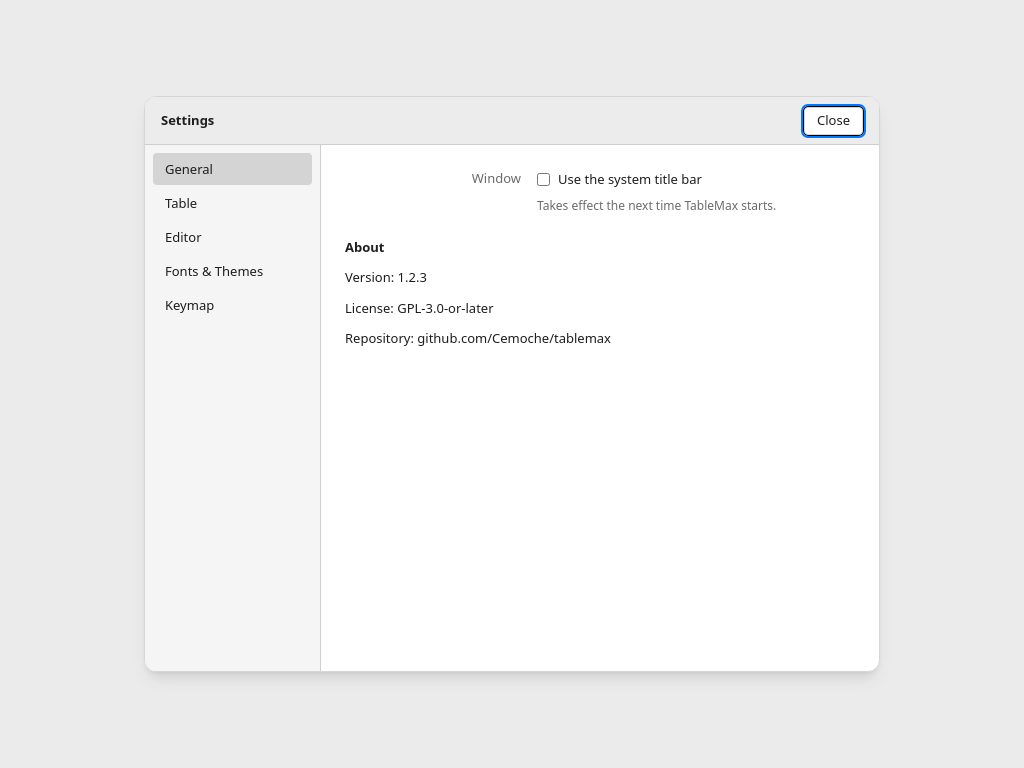
it: settings_sections_and_fields: General, Table, Editor, Fonts & Themes and Keymap, each with its labelled fields
Expected: the checkbox labelled "Use the system title bar" is shown, 537,172 -> 550,186
Expected: the text "License: GPL-3.0-or-later" is shown, 345,298 -> 494,316
Click the tab "Table" at [232, 203], box 153,187 -> 312,219
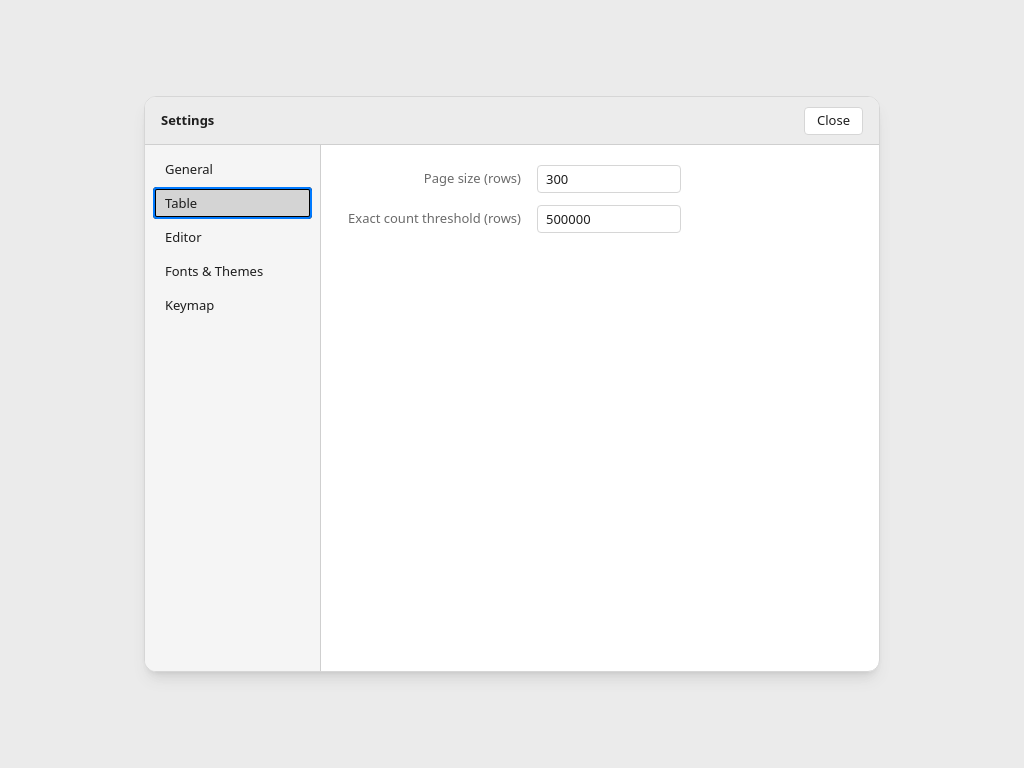
Now the field labelled "Page size (rows)" holds "300", box 537,165 -> 681,193
Now the field labelled "Exact count threshold (rows)" is shown, box 537,205 -> 681,233
Now the label "Use the system title bar" is gone
Click the tab "Editor" at [232, 237], box 153,221 -> 312,253
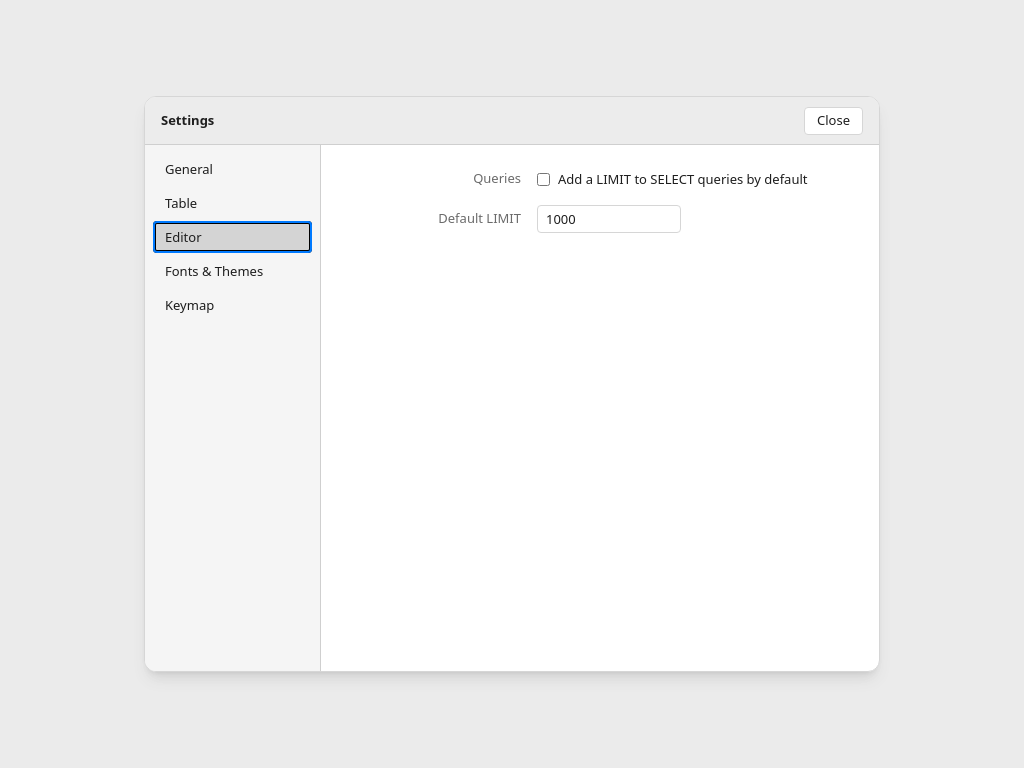
Now the field labelled "Default LIMIT" is shown, box 537,205 -> 681,233
Now the checkbox labelled "Add a LIMIT to SELECT queries by default" is shown, box 537,172 -> 550,186
Click the tab "Fonts & Themes" at [232, 271], box 153,255 -> 312,287
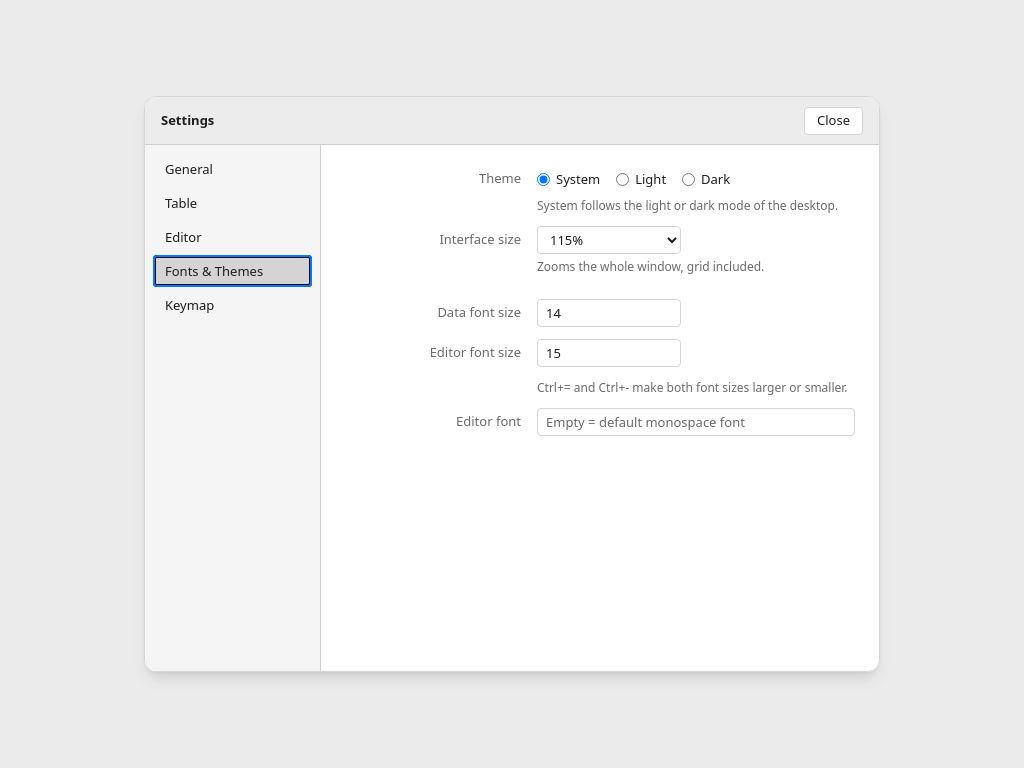
Now the radio button labelled "System" is checked, box 537,172 -> 550,186
Now the dropdown labelled "Interface size" shows "115%", box 537,226 -> 681,254
Now the field labelled "Data font size" holds "14", box 537,299 -> 681,327
Click the tab "Keymap" at [232, 305], box 153,289 -> 312,321
(page scrolled)
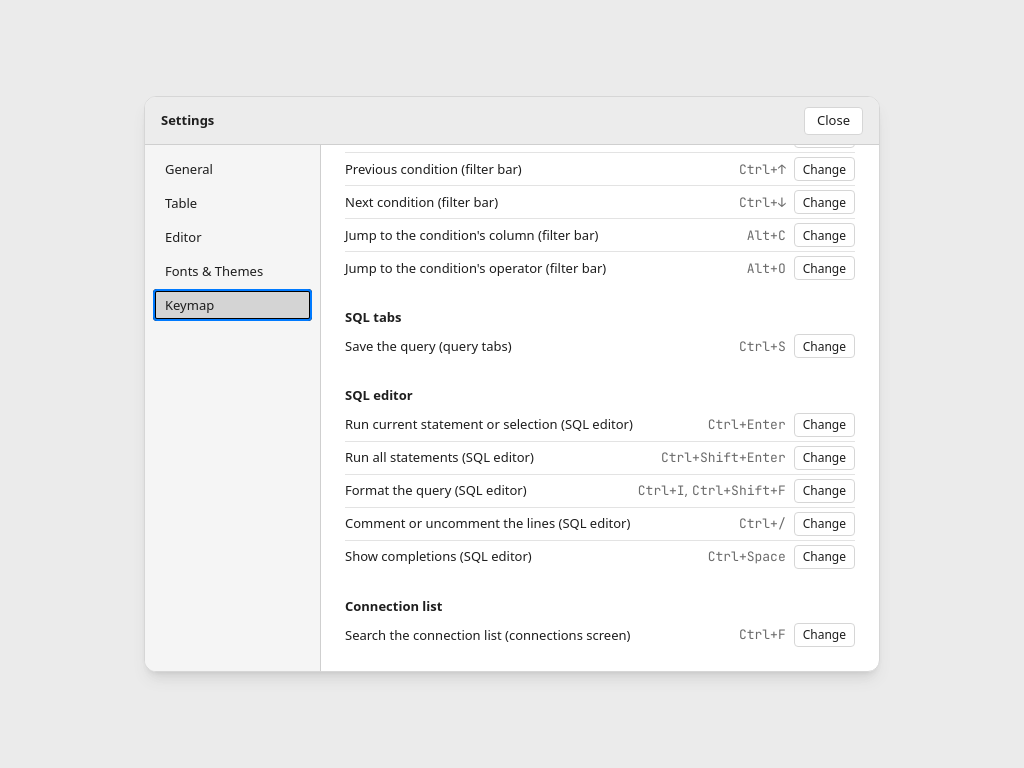
Now the text "Save the query (query tabs)" is shown, box 345,337 -> 512,356
Now the text "Run current statement or selection (SQL editor)" is shown, box 345,416 -> 633,434
Now the text "Search the connection list (connections screen)" is shown, box 345,626 -> 630,644
